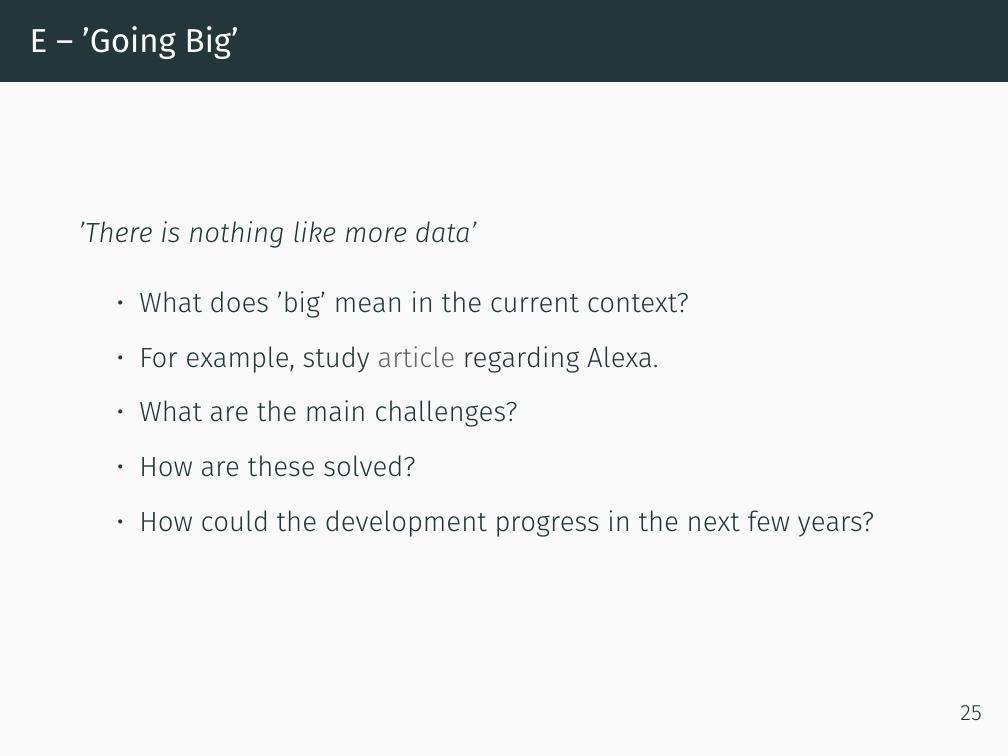Title: (21, 21, 244, 72)
